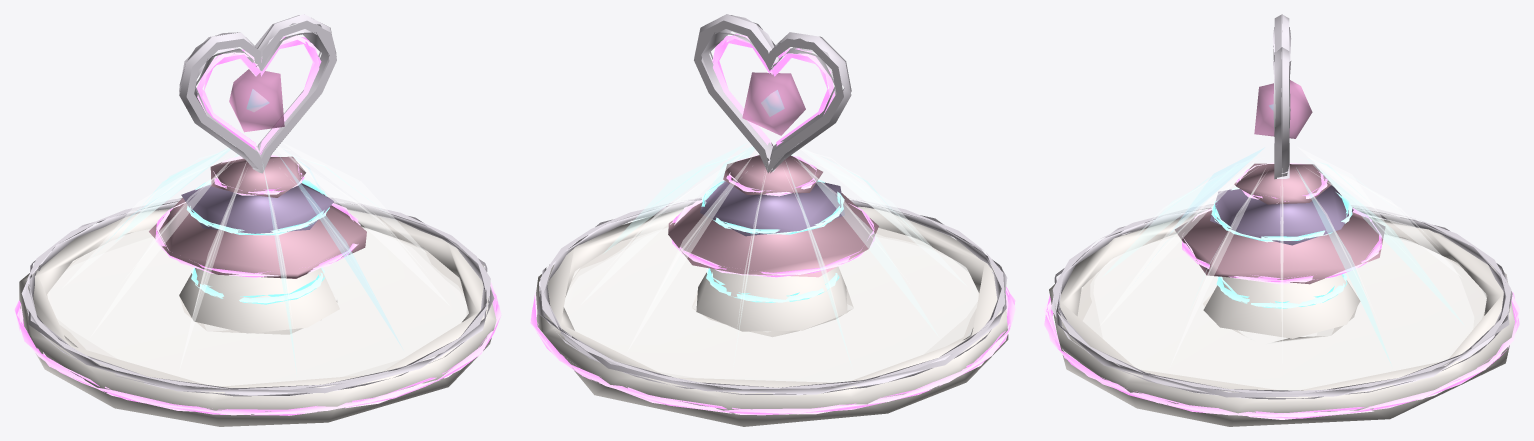
Rendered from lod_plaza_centerpiece.glb.
3 views of the same model, side by side, from view 1: azimuth 30°, elevation 25°; view 2: azimuth 150°, elevation 25°; view 3: azimuth 270°, elevation 25° (orthographic). The views are drawn at different scales.
Parts seen in each view (by area): view 1: plaza_centerpiece; view 2: plaza_centerpiece; view 3: plaza_centerpiece.
Part boxes in pixels (left/top/right/bottom): plaza_centerpiece: left=14, top=14, right=501, bottom=426; plaza_centerpiece: left=530, top=14, right=1015, bottom=426; plaza_centerpiece: left=1044, top=14, right=1519, bottom=426.
Size of the model in its own units: 7.66 by 5.28 by 7.66.
